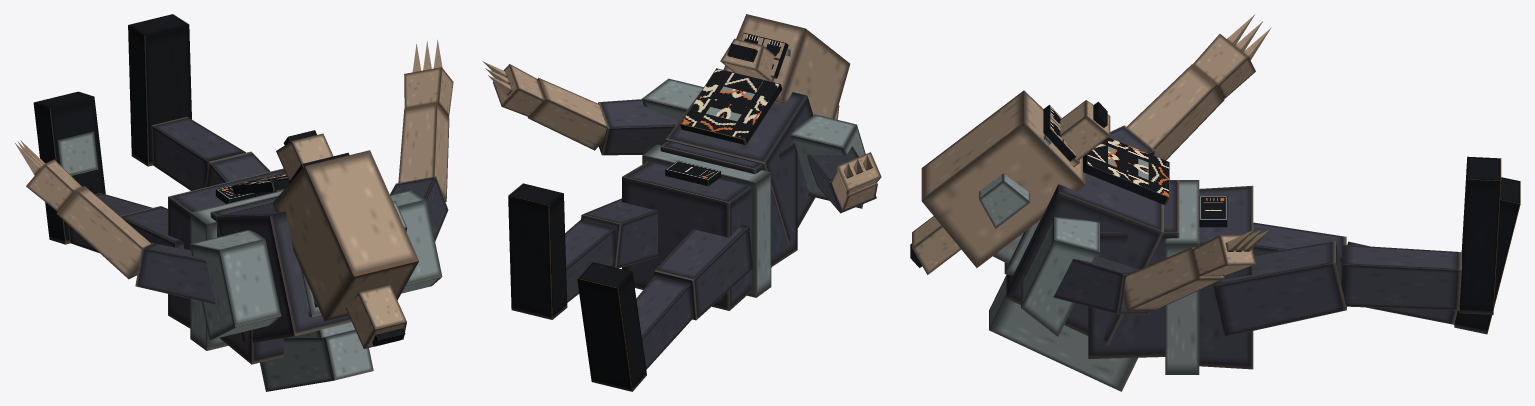
Rendered from repetiel_attack.obj.
The picture shows the model from 3 angles, left to right: view 1: azimuth 30°, elevation 25°; view 2: azimuth 150°, elevation 25°; view 3: azimuth 270°, elevation 25°; orthographic projection. The views are drawn at different scales.
Visible parts, largest first — view 1: repetiel_attack; view 2: repetiel_attack; view 3: repetiel_attack.
Part boxes in pixels (box(x1,y1,x2,y2)): repetiel_attack: box(15, 14, 453, 391); repetiel_attack: box(483, 14, 881, 391); repetiel_attack: box(910, 15, 1520, 391).
Size of the model in its own units: 0.8884 by 0.5204 by 1.06.
Materials: 1 (1 with a texture image).
